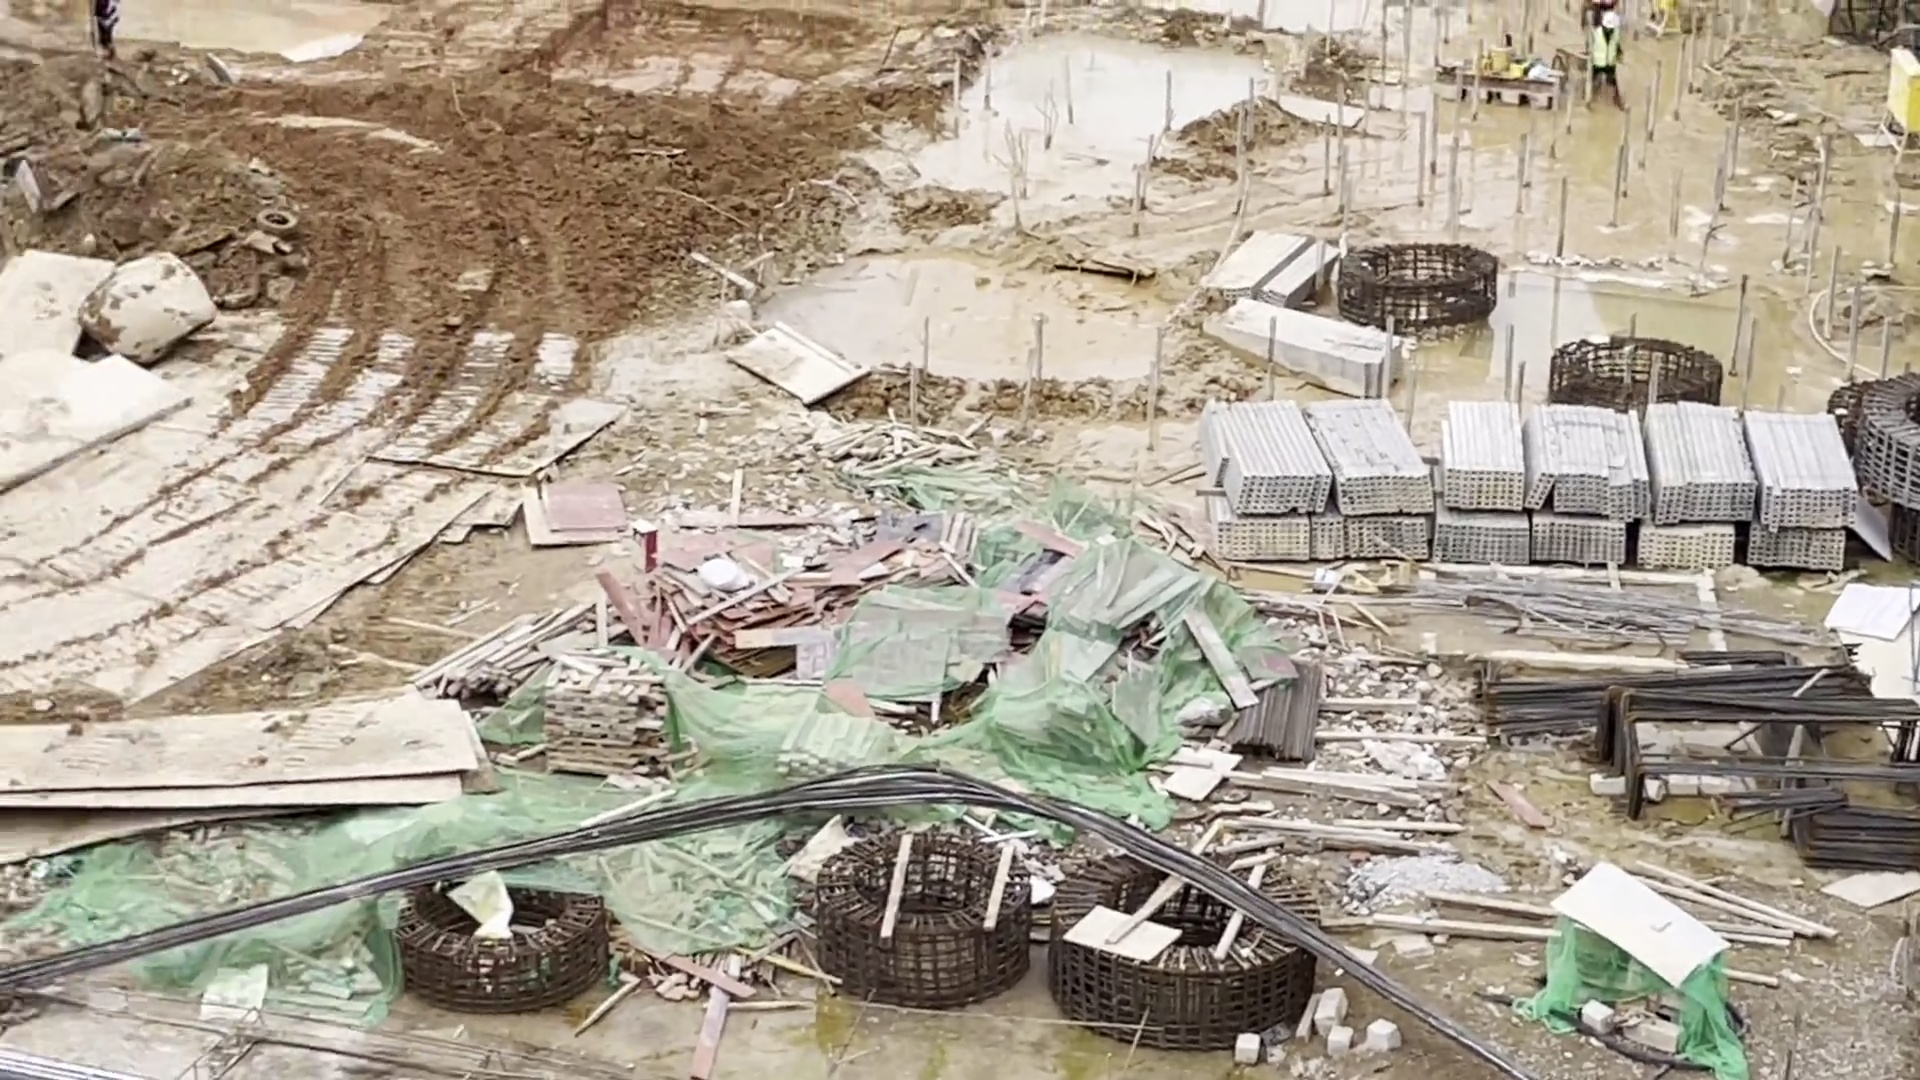ebox: (1871, 46, 1920, 173)
